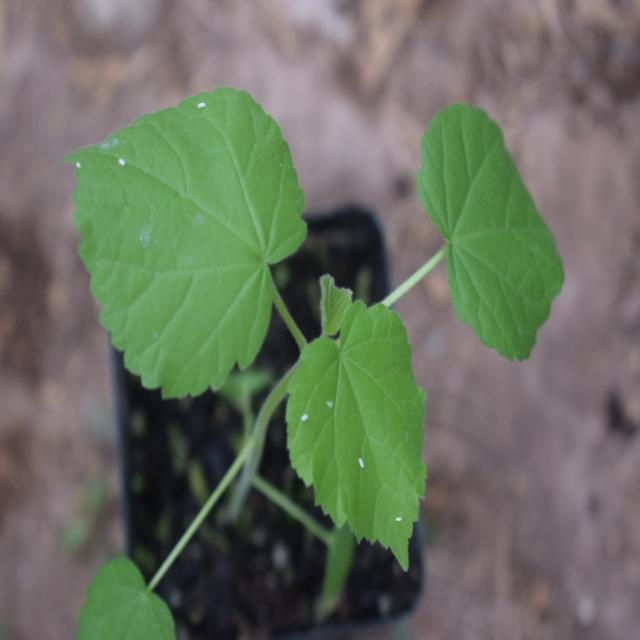abutilon theophrasti: (72, 89, 567, 580)
